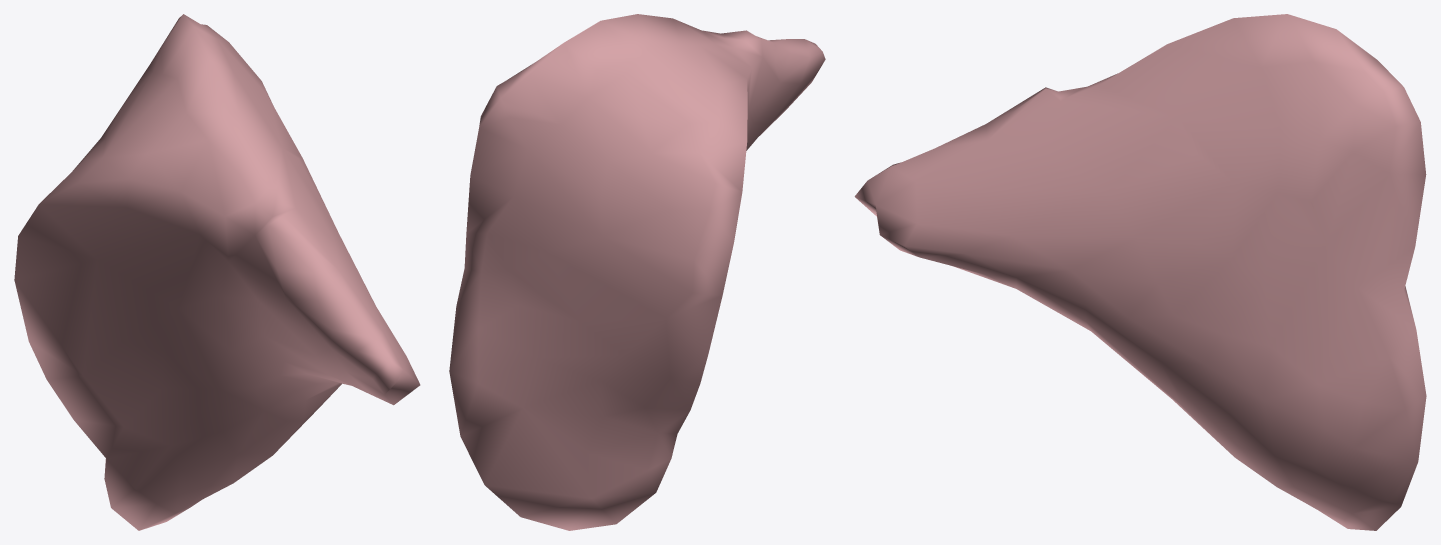
File: fma75767-l_mm1017.glb
The picture shows the model from 3 angles, left to right: view 1: azimuth 30°, elevation 25°; view 2: azimuth 150°, elevation 25°; view 3: azimuth 270°, elevation 25°; orthographic projection. The views are drawn at different scales.
Visible parts, largest first — view 1: FMA75767-L_MM1017; view 2: FMA75767-L_MM1017; view 3: FMA75767-L_MM1017.
Part boxes in pixels (x1,y1,x2,y2): FMA75767-L_MM1017: [14, 14, 420, 530]; FMA75767-L_MM1017: [449, 14, 825, 530]; FMA75767-L_MM1017: [854, 14, 1426, 530].
Bounding box in the file's own units: 0.000931 × 0.00172 × 0.00173.
